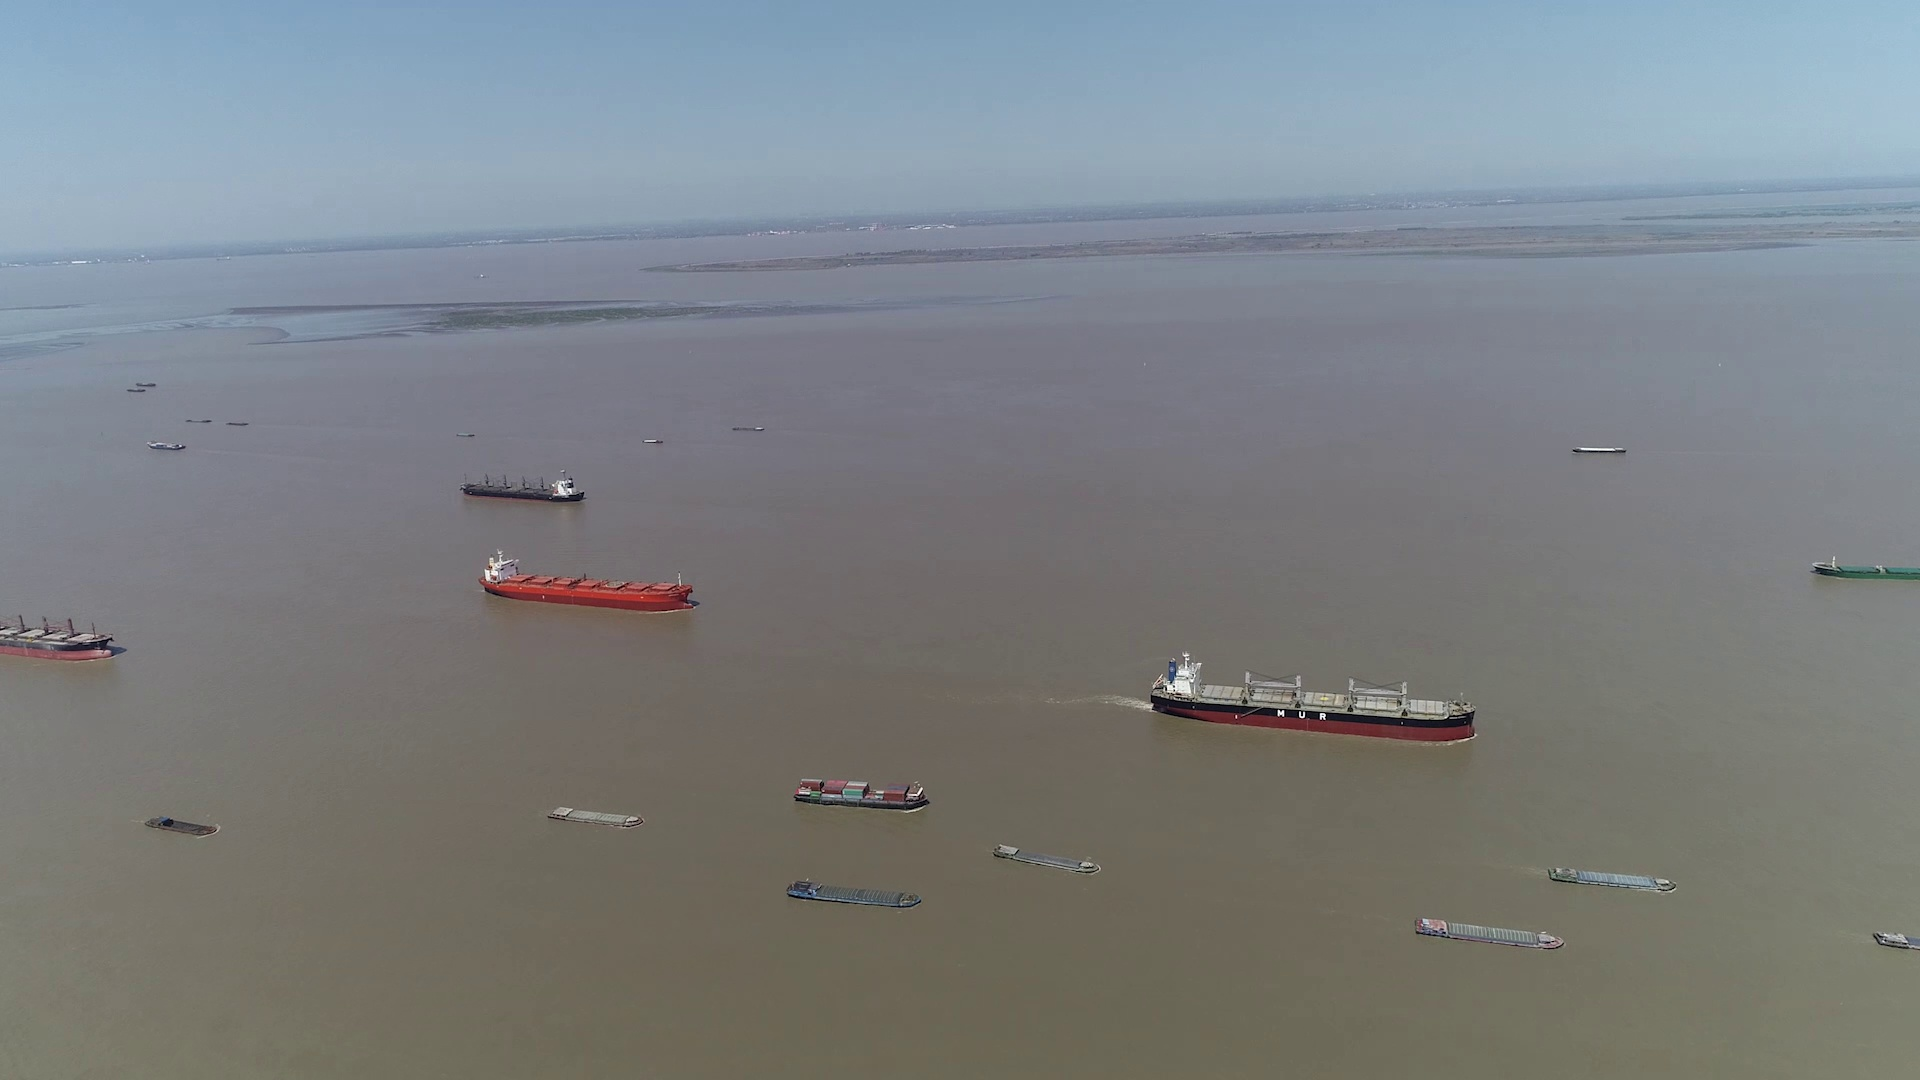ship: (1150, 651, 1476, 740), (485, 550, 695, 611), (1, 599, 117, 662), (1416, 916, 1567, 949), (794, 778, 931, 811), (785, 880, 923, 910), (463, 469, 585, 502), (993, 843, 1098, 874), (1549, 865, 1673, 891), (1811, 556, 1917, 582), (546, 804, 644, 828), (144, 815, 218, 836), (1873, 928, 1917, 953), (1571, 446, 1627, 455), (148, 440, 187, 450)
